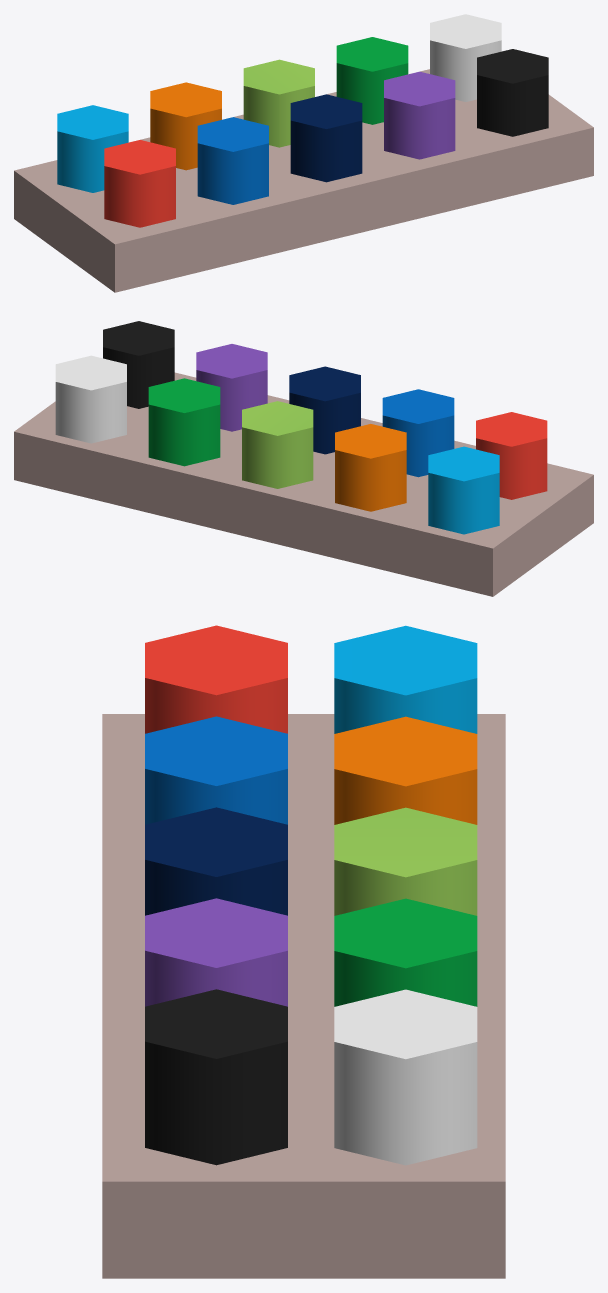
The model's file is toy_025.glb.
The picture shows the model from 3 angles, top to bottom: view 1: azimuth 30°, elevation 25°; view 2: azimuth 150°, elevation 25°; view 3: azimuth 270°, elevation 25°; orthographic projection. The views are drawn at different scales.
Visible parts, largest first — view 1: toy_025; view 2: toy_025; view 3: toy_025.
Part boxes in pixels (x1,y1,x2,y2): toy_025: [14, 14, 593, 292]; toy_025: [14, 321, 593, 596]; toy_025: [102, 625, 505, 1278].
Bounding box in the file's own units: 0.3615 × 0.0732 × 0.1319.
1 material, 1 textured.
